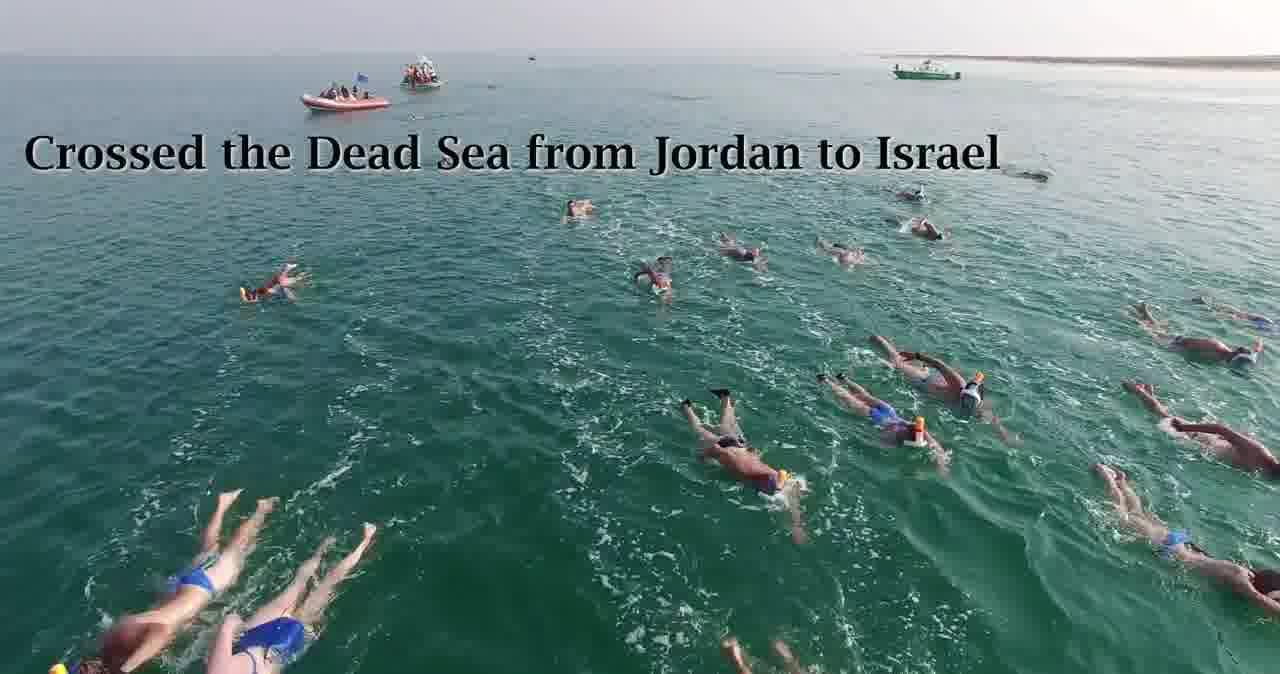swimmer: (76, 489, 273, 673), (193, 513, 380, 673), (1090, 458, 1280, 608), (675, 387, 812, 510), (1127, 381, 1277, 478), (815, 368, 945, 454), (861, 330, 1000, 410), (1123, 308, 1256, 373), (231, 265, 305, 312), (640, 256, 684, 296), (900, 214, 946, 248), (556, 196, 597, 222)
